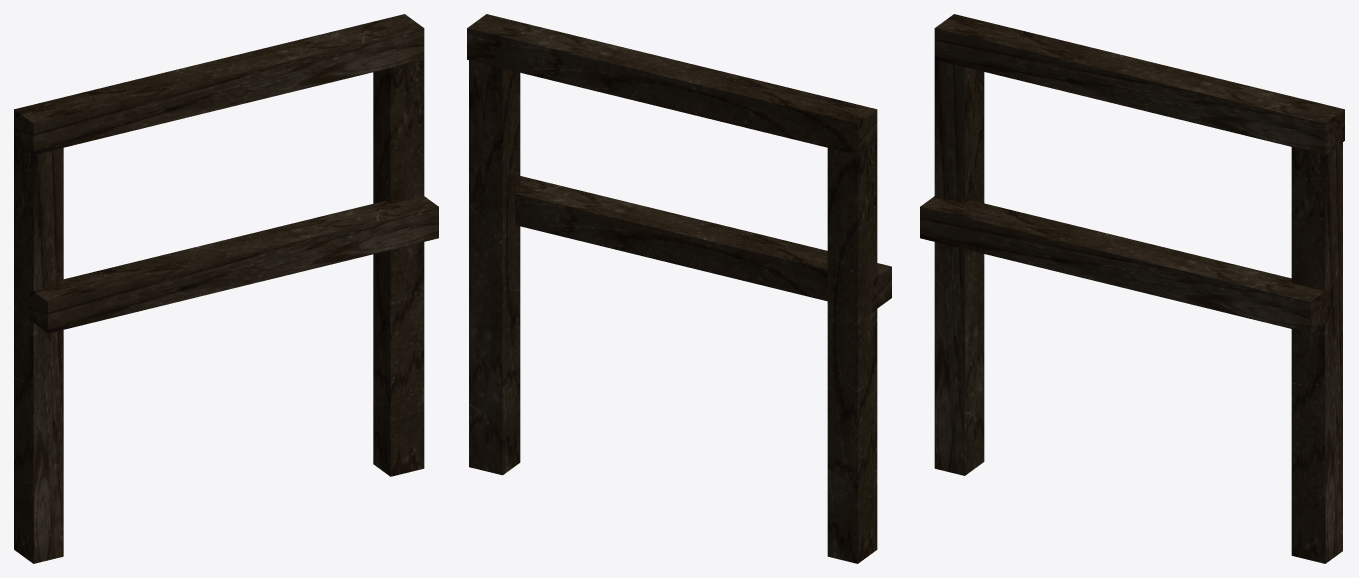
Rendered from NNJ0510024.fbx.
3 renders of one model, left to right at view 1: azimuth 30°, elevation 25°; view 2: azimuth 150°, elevation 25°; view 3: azimuth 330°, elevation 25°, orthographic.
Visible parts, largest first — view 1: smNNJ0510024; view 2: smNNJ0510024; view 3: smNNJ0510024.
Part boxes in pixels (x1,y1,x2,y2): smNNJ0510024: (14, 14, 438, 563); smNNJ0510024: (467, 14, 891, 563); smNNJ0510024: (920, 14, 1344, 563).
Size of the model in its own units: 347 by 373 by 52.25.
1 material, 1 textured.
